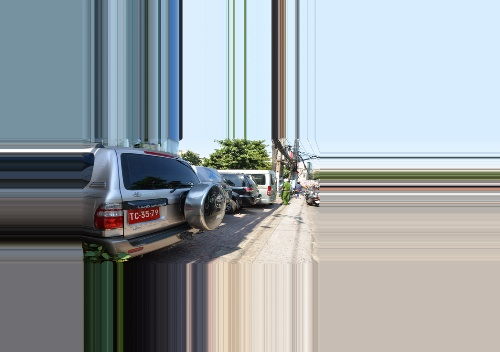plate: (127, 203, 163, 227)
